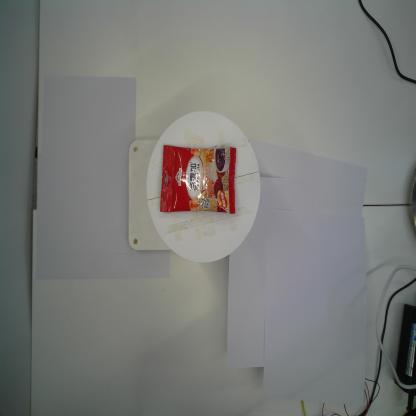Instant Drink: (158, 142, 237, 216)
